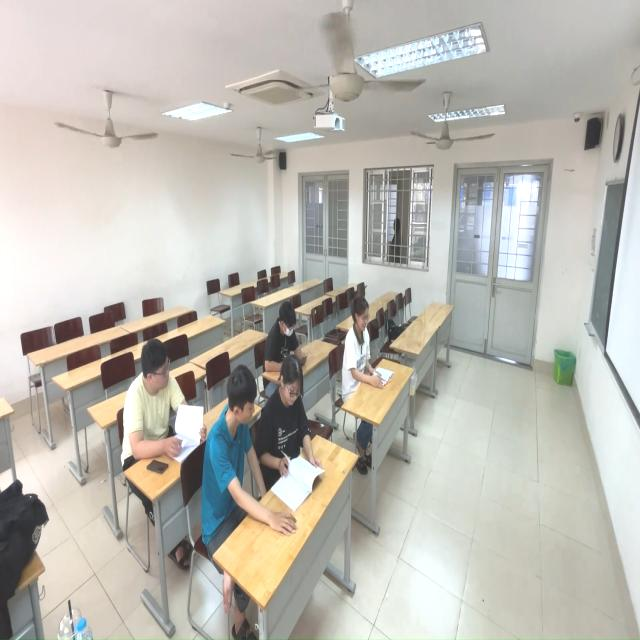read: (201, 365, 278, 561), (121, 340, 211, 472), (264, 353, 325, 511), (343, 294, 397, 404), (262, 301, 317, 375)
